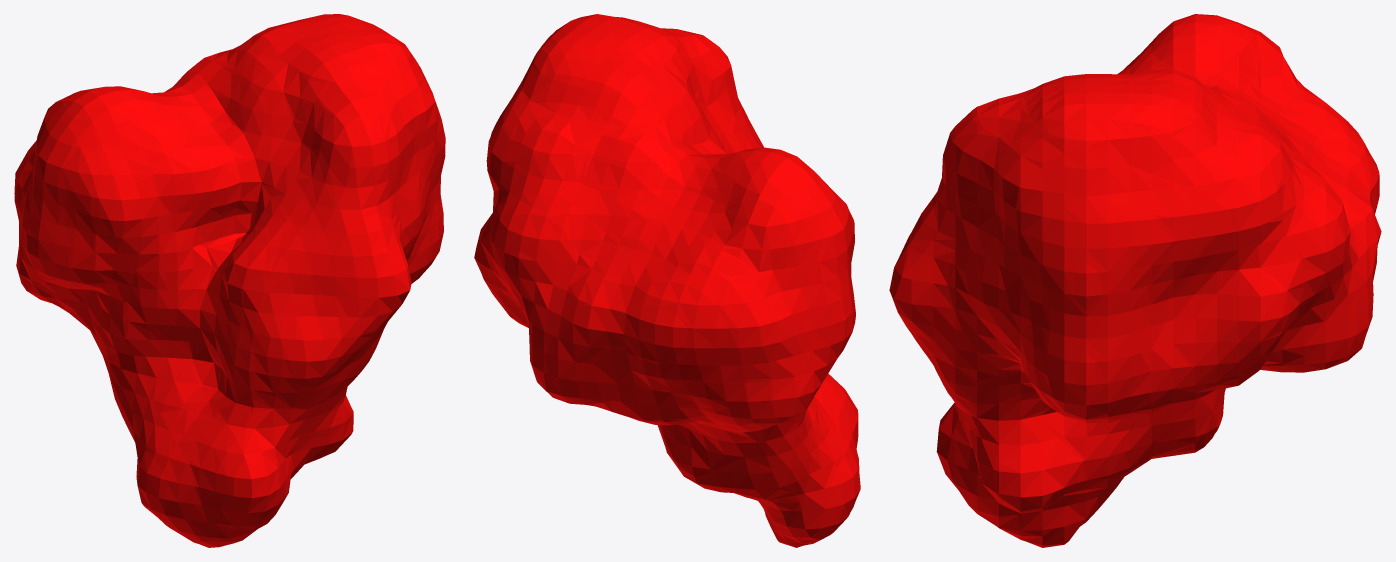
The model's file is pflC_coarse.dae.
The picture shows the model from 3 angles, left to right: view 1: azimuth 30°, elevation 25°; view 2: azimuth 150°, elevation 25°; view 3: azimuth 270°, elevation 25°; orthographic projection. The views are drawn at different scales.
Visible parts, largest first — view 1: pflC; view 2: pflC; view 3: pflC.
Boxes of the visible parts, box(x1,y1,x2,y2) form: pflC: box(14, 14, 445, 547); pflC: box(474, 14, 860, 547); pflC: box(889, 14, 1381, 547).
Bounding box in the file's own units: 51.94 × 62.99 × 51.48.
